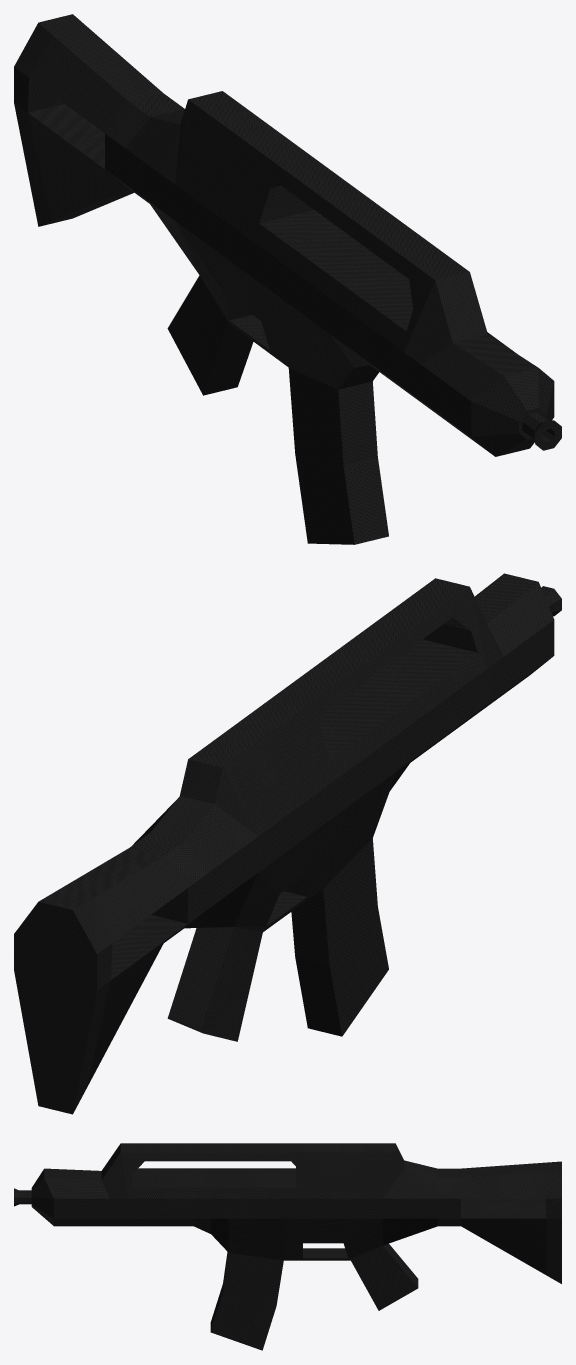
File: Rifle.fbx
3 views of the same model, one above another, from view 1: azimuth 30°, elevation 25°; view 2: azimuth 150°, elevation 25°; view 3: azimuth 270°, elevation 25° (orthographic). The views are drawn at different scales.
Parts seen in each view (by area): view 1: Rifle_mesh; view 2: Rifle_mesh; view 3: Rifle_mesh.
Boxes of the visible parts, x1,y1,x2,y2 form: Rifle_mesh: [14, 14, 561, 544]; Rifle_mesh: [14, 573, 561, 1114]; Rifle_mesh: [14, 1143, 561, 1350].
Size of the model in its own units: 0.1019 by 0.4174 by 1.05.
1 material, 1 textured.
